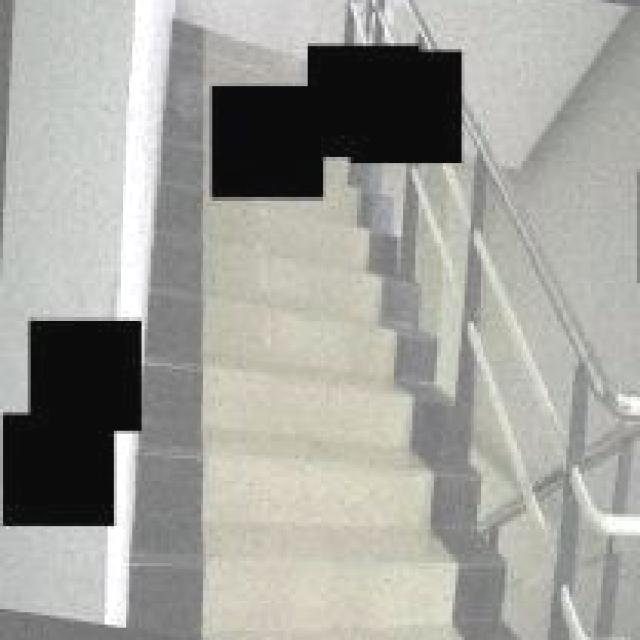upstair: (155, 216, 506, 640)
